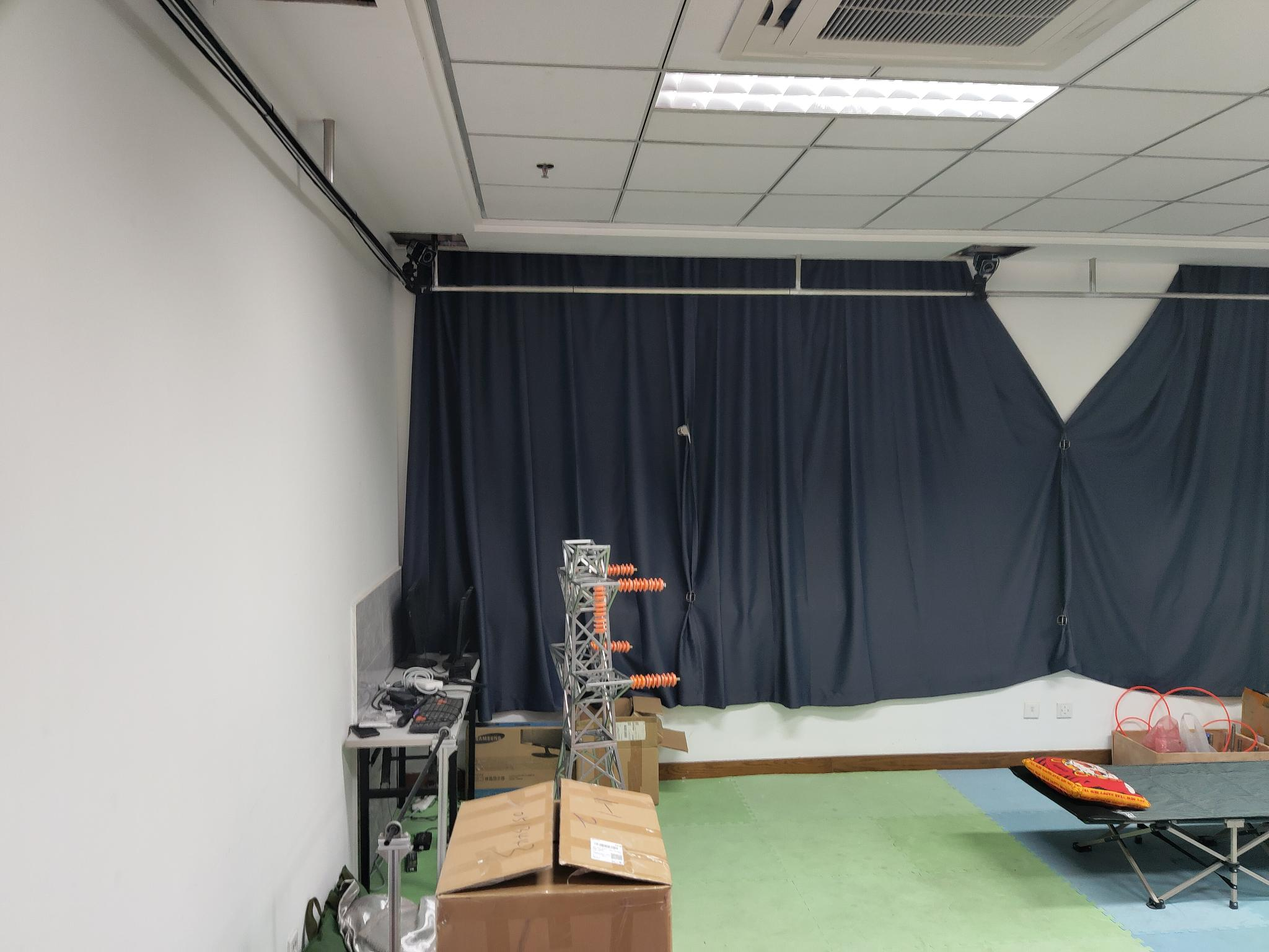tower: (545, 539, 641, 783)
